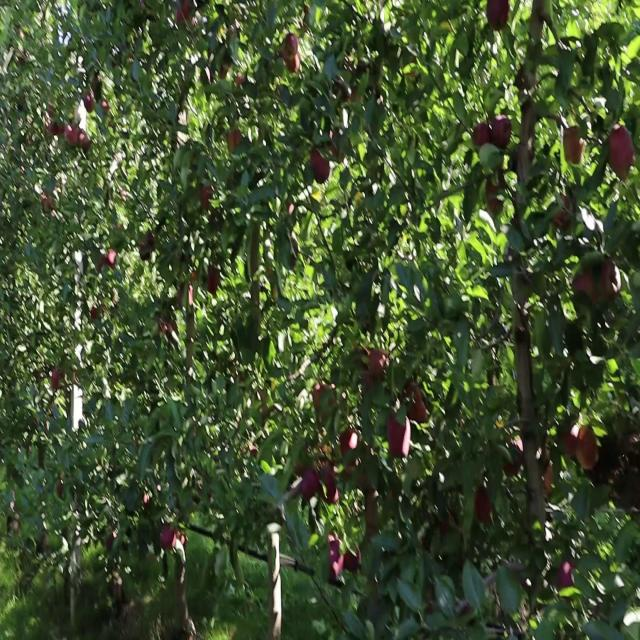apple: (608, 127, 636, 181), (388, 412, 412, 460), (404, 383, 429, 427), (576, 426, 600, 471), (531, 455, 554, 498), (572, 270, 597, 304), (280, 35, 301, 75), (340, 426, 360, 468), (600, 263, 621, 302), (320, 462, 339, 505), (564, 127, 585, 165), (488, 1, 512, 34), (364, 348, 389, 379), (504, 440, 525, 476), (492, 113, 513, 149), (316, 383, 336, 420), (312, 149, 332, 185), (300, 469, 320, 503), (328, 540, 344, 581), (476, 490, 494, 526), (536, 462, 554, 498), (488, 177, 505, 215), (560, 426, 579, 459), (472, 120, 492, 149), (552, 199, 571, 228), (540, 462, 554, 498), (344, 547, 362, 574), (560, 561, 576, 590), (160, 526, 175, 555), (360, 369, 378, 391), (180, 284, 195, 309), (200, 184, 213, 212), (368, 497, 378, 532), (208, 270, 220, 297), (228, 135, 242, 155), (84, 92, 96, 114), (160, 319, 176, 334), (176, 7, 191, 23), (44, 191, 55, 212), (92, 305, 107, 320), (52, 369, 62, 391), (68, 127, 77, 148), (180, 7, 191, 23), (108, 248, 116, 270), (92, 305, 103, 320), (176, 533, 187, 548), (108, 533, 116, 551), (80, 135, 89, 149), (48, 120, 56, 135), (148, 234, 156, 249), (100, 255, 107, 270), (48, 120, 55, 135), (48, 106, 55, 119), (104, 99, 110, 114), (56, 127, 64, 135), (60, 483, 64, 498), (236, 78, 244, 85)
